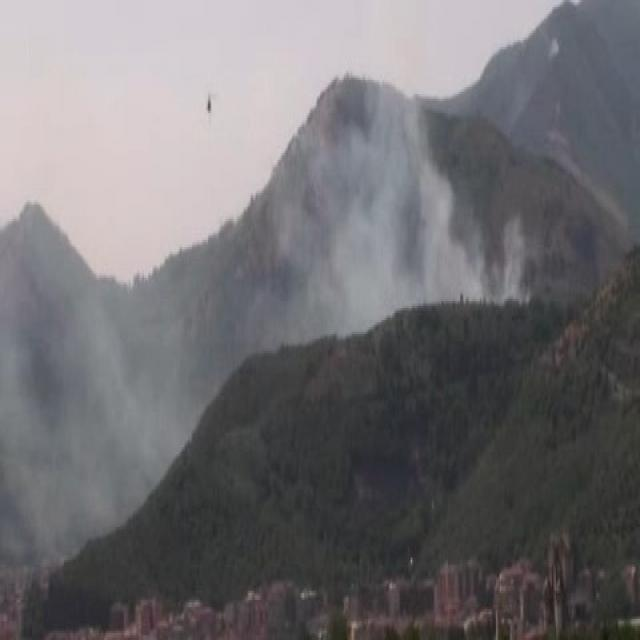smoke: (274, 111, 532, 317), (36, 289, 206, 471)
